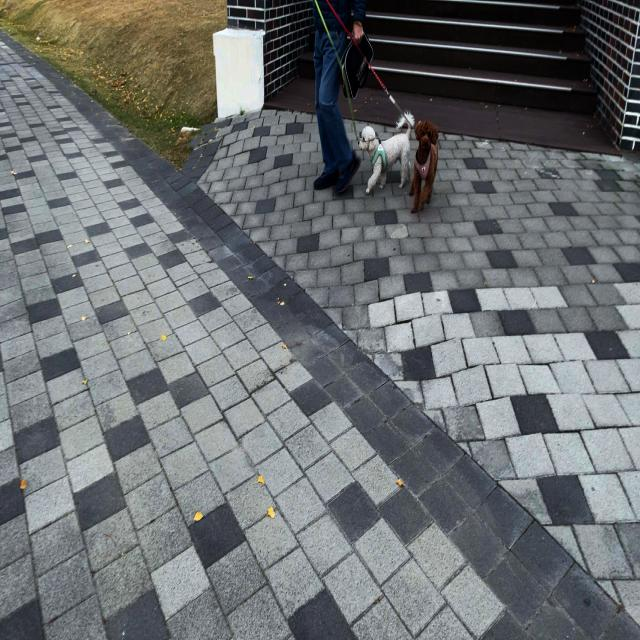Leashed_Dog: (313, 0, 439, 215), (312, 0, 414, 194)
